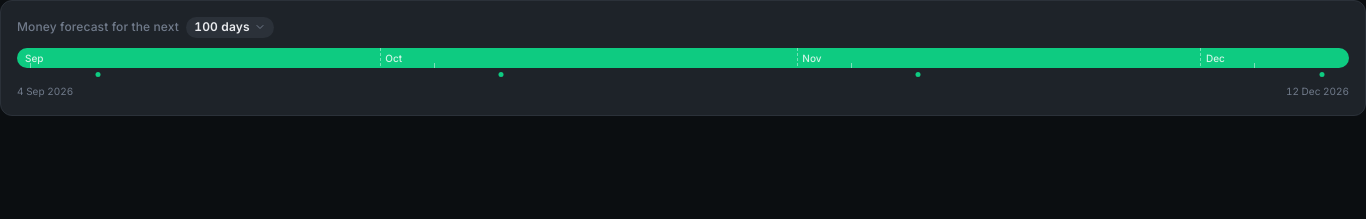
Scenario: Dragging the horizon › the end date follows the thumb before any data moves
Click the button with test id "projection-horizon" at point(230, 27), box [186, 17, 274, 38]
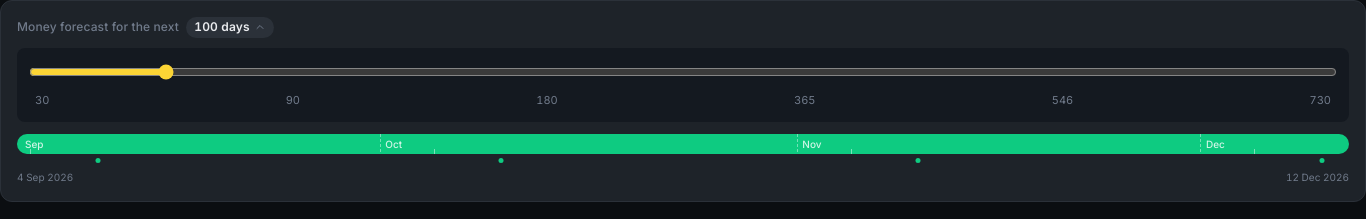
Set the slider with test id "projection-horizon-slider" to "30" at point(37, 72), box [29, 60, 1337, 84]
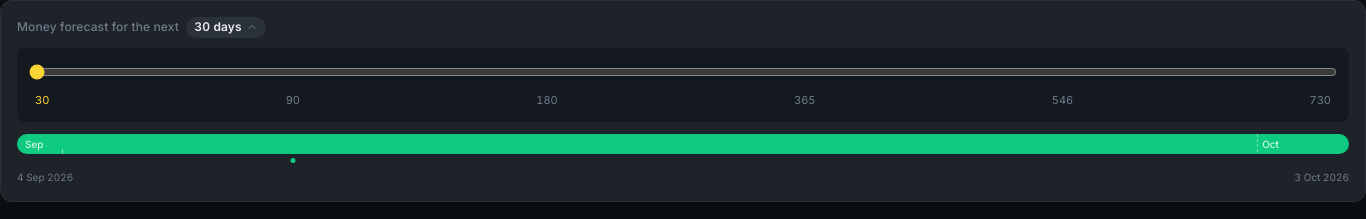
expect the text with test id "projection-axis-to" reads "3 Oct 2026": met, box [1295, 171, 1349, 183]
